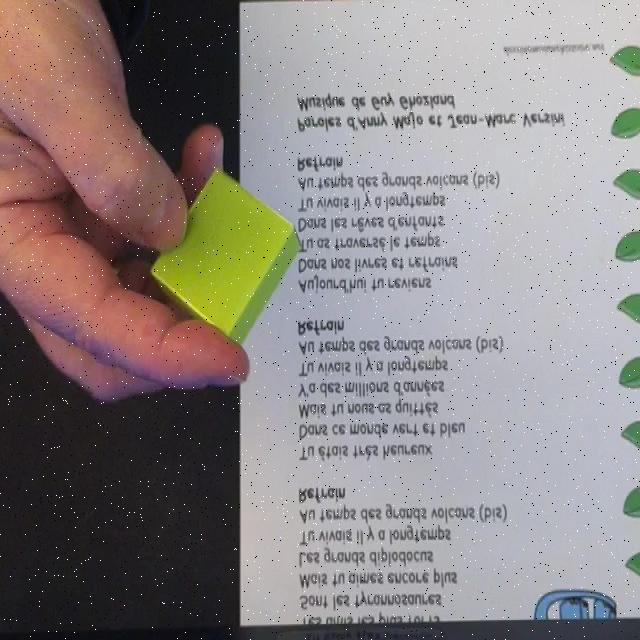square: (149, 167, 301, 341)
